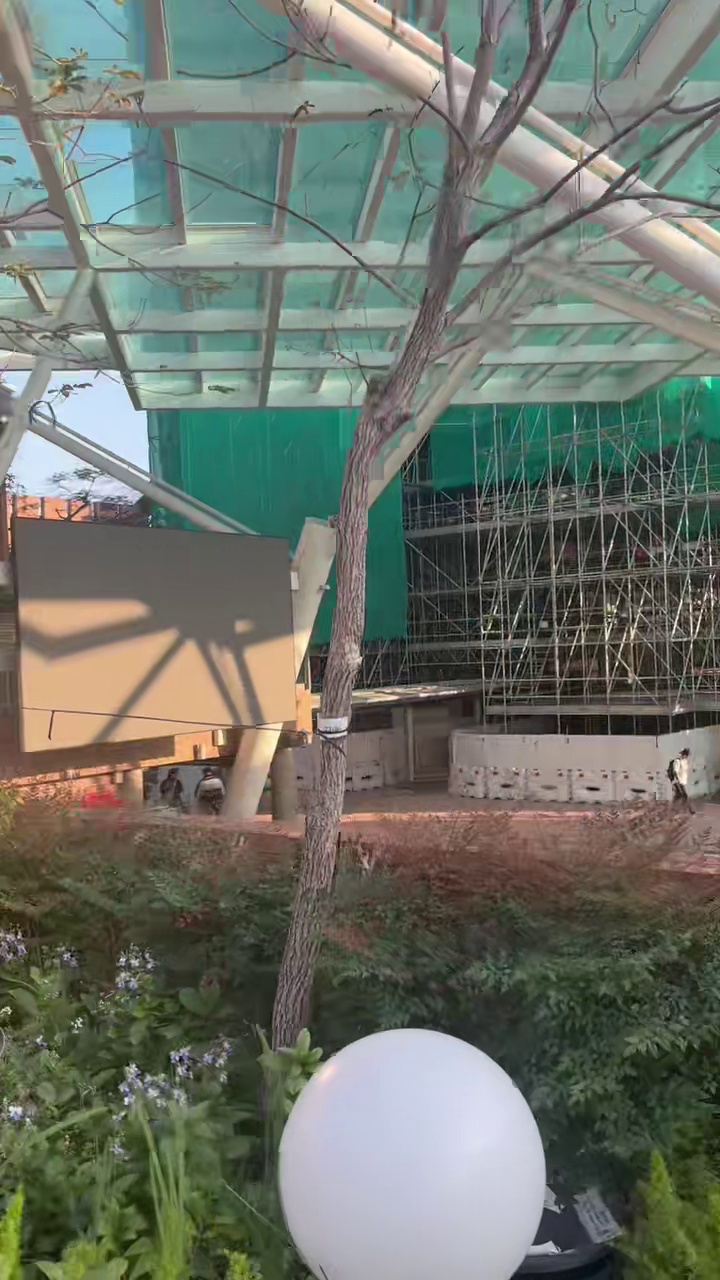Tabebuia chrysantha: (321, 0, 702, 723), (273, 726, 346, 1046), (289, 0, 384, 61)
